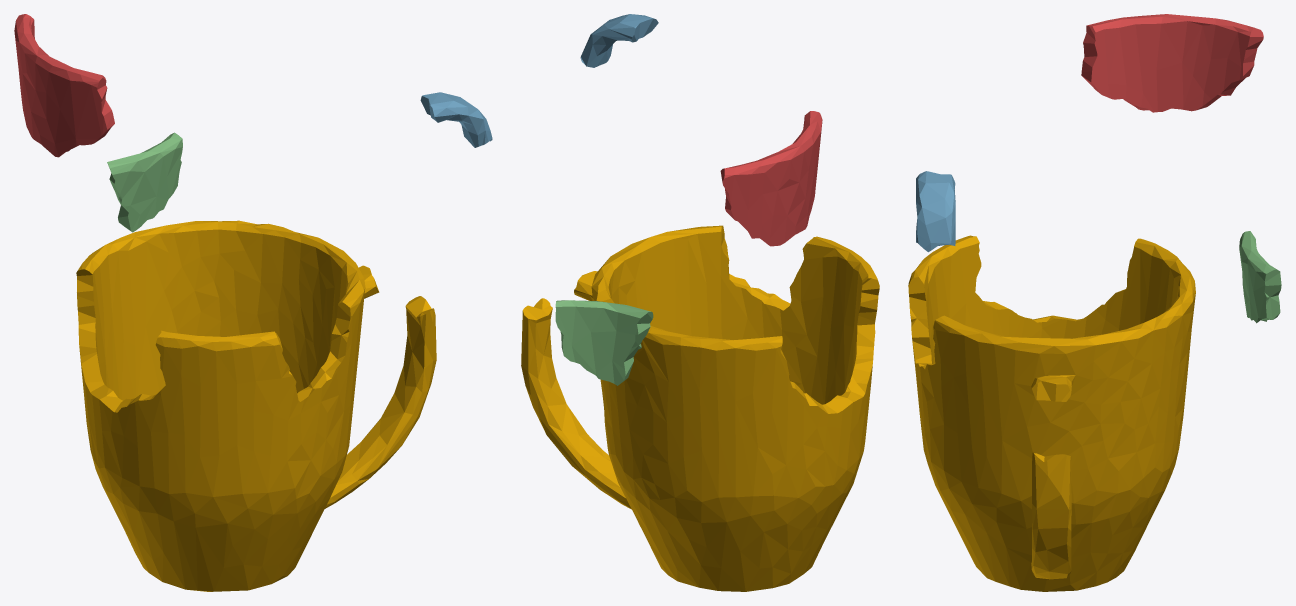
Rendered from fractured_63_4pcs_transformed.glb.
The picture shows the model from 3 angles, left to right: view 1: azimuth 30°, elevation 25°; view 2: azimuth 150°, elevation 25°; view 3: azimuth 270°, elevation 25°; orthographic projection.
Visible parts, largest first — view 1: piece_0.obj, piece_1.obj, piece_3.obj, piece_2.obj; view 2: piece_0.obj, piece_1.obj, piece_3.obj, piece_2.obj; view 3: piece_0.obj, piece_1.obj, piece_2.obj, piece_3.obj.
Part boxes in pixels (<box>): piece_0.obj: <box>76,220,436,591</box>; piece_1.obj: <box>14,14,114,157</box>; piece_3.obj: <box>107,132,182,232</box>; piece_2.obj: <box>420,92,492,147</box>; piece_0.obj: <box>521,225,879,591</box>; piece_1.obj: <box>720,111,822,246</box>; piece_3.obj: <box>555,300,653,385</box>; piece_2.obj: <box>580,14,658,67</box>; piece_0.obj: <box>908,235,1195,591</box>; piece_1.obj: <box>1081,14,1263,112</box>; piece_2.obj: <box>916,171,955,252</box>; piece_3.obj: <box>1239,231,1281,323</box>.
Bounding box in the file's own units: 1 × 1.4 × 0.9663.
